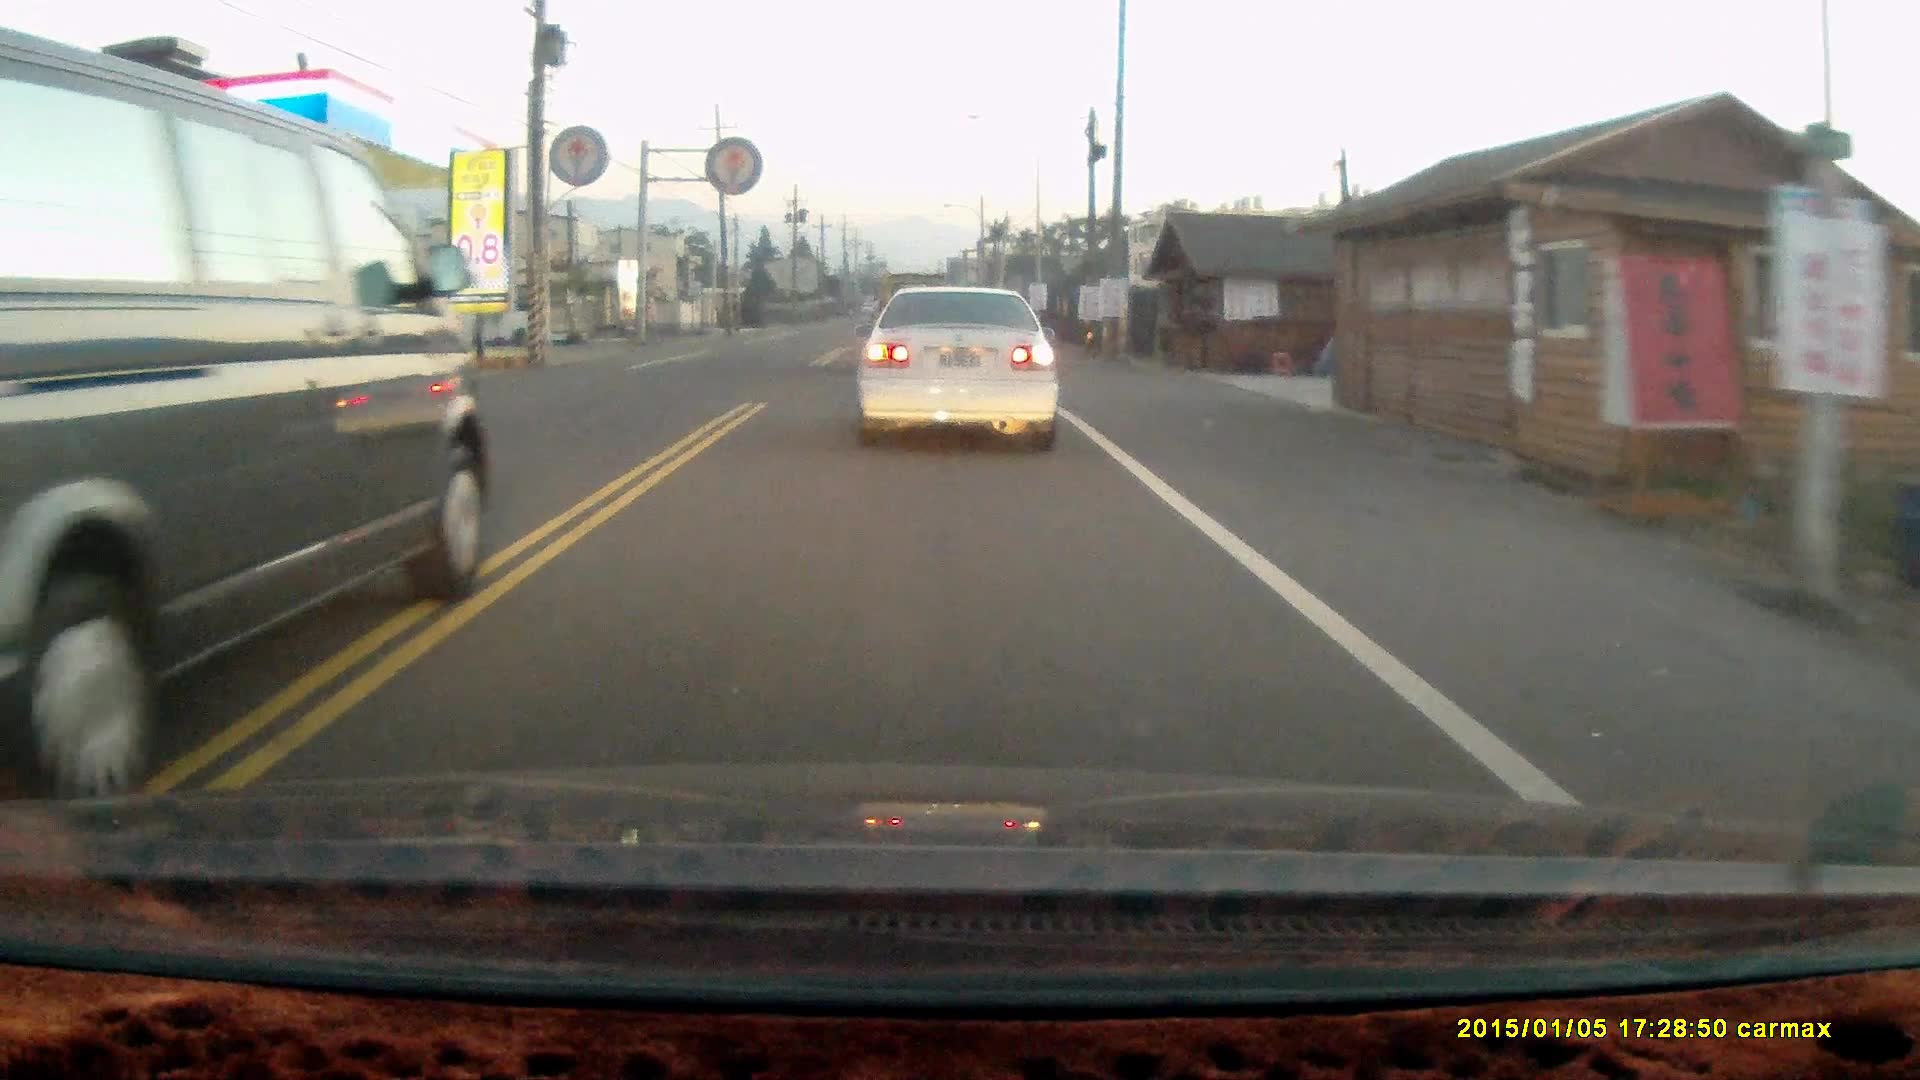vehicle: (1, 32, 489, 793), (855, 280, 1065, 458)
